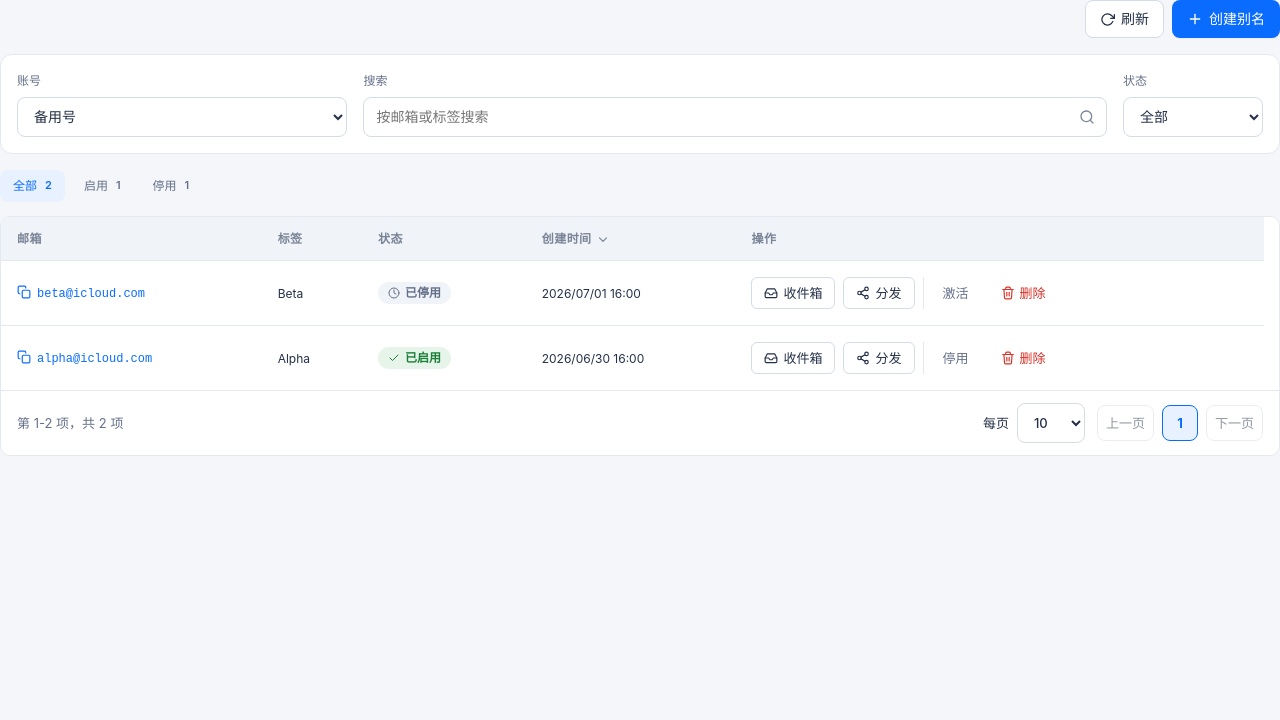
Test: AliasesPage › 每行分发入口绑定所选账号和别名，不离开管理页面
Click the button with aria-label "分发邮箱 · beta@icloud.com": x=879, y=293 [844, 277, 914, 309]
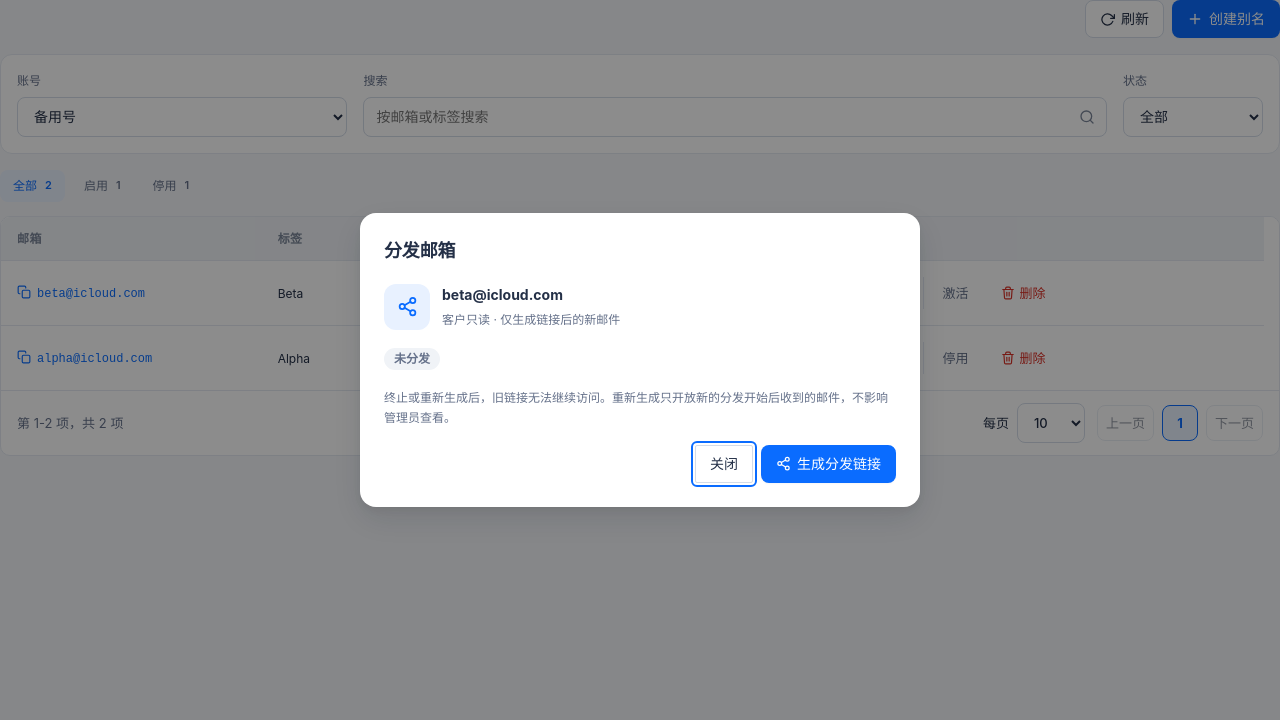
Result: the text "beta@icloud.com" is shown at [442, 286, 563, 303]
Result: the button "生成分发链接" is shown at [761, 445, 896, 483]
